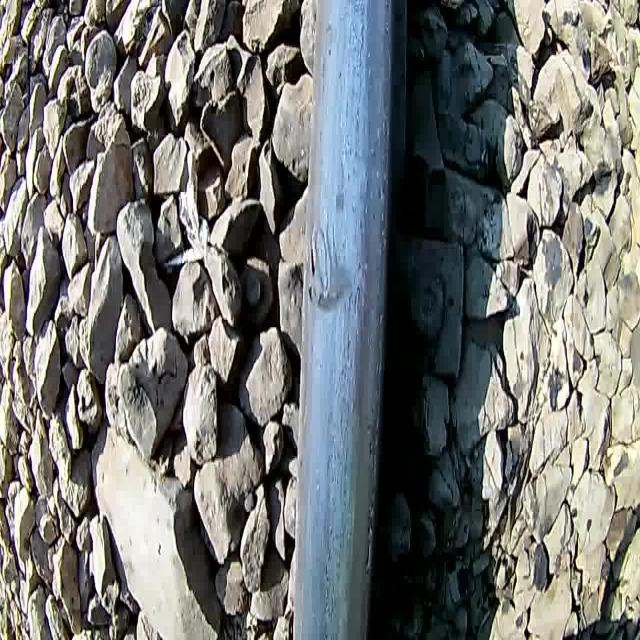Cracks: (307, 219, 340, 304)
Squats: (316, 262, 356, 319)
